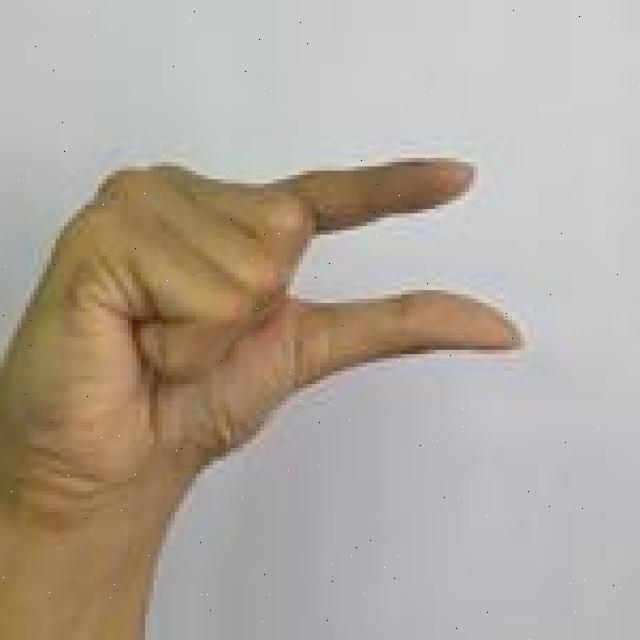G: (0, 154, 523, 640)
